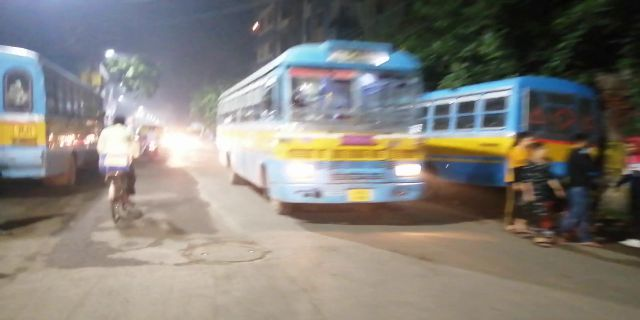Bus: (208, 33, 428, 213), (423, 76, 610, 197), (5, 46, 103, 177)
Cycle: (95, 113, 145, 228)
